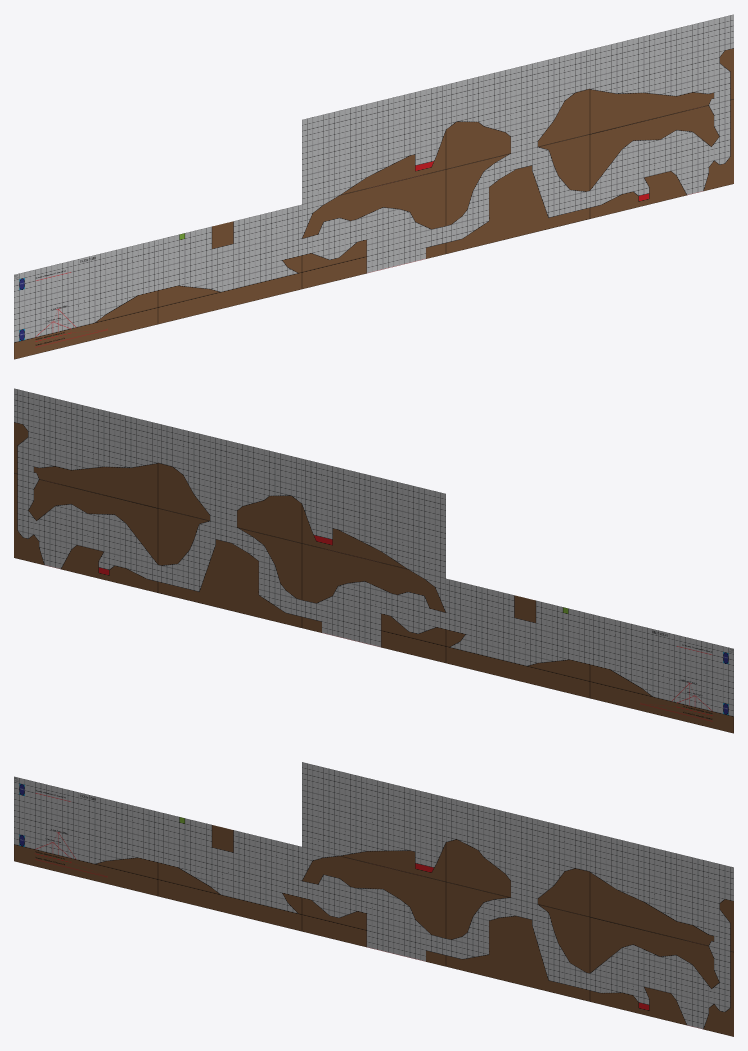
The picture shows the model from 3 angles, top to bottom: view 1: azimuth 30°, elevation 25°; view 2: azimuth 150°, elevation 25°; view 3: azimuth 330°, elevation 25°; orthographic projection.
Visible parts, largest first — view 1: LD-013, LD-015, LD-018, LD-011, LD-016, LD-012, LD-017, LD-014; view 2: LD-013, LD-015, LD-018, LD-011, LD-016, LD-012, LD-017, LD-014; view 3: LD-012, LD-014, LD-017, LD-011, LD-013, LD-016, LD-015, LD-018.
Boxes of the visible parts, left/top/right/bottom form: LD-013: left=302, top=169, right=445, bottom=289; LD-015: left=590, top=99, right=733, bottom=218; LD-018: left=302, top=84, right=445, bottom=204; LD-011: left=14, top=239, right=157, bottom=359; LD-016: left=590, top=14, right=733, bottom=134; LD-012: left=158, top=204, right=301, bottom=324; LD-017: left=446, top=49, right=589, bottom=169; LD-014: left=446, top=134, right=589, bottom=253; LD-013: left=302, top=543, right=445, bottom=663; LD-015: left=14, top=473, right=157, bottom=592; LD-018: left=302, top=458, right=445, bottom=578; LD-011: left=590, top=613, right=733, bottom=733; LD-016: left=14, top=388, right=157, bottom=508; LD-012: left=446, top=578, right=589, bottom=698; LD-017: left=158, top=423, right=301, bottom=543; LD-014: left=158, top=508, right=301, bottom=627; LD-012: left=158, top=811, right=301, bottom=931; LD-014: left=446, top=882, right=589, bottom=1001; LD-017: left=446, top=797, right=589, bottom=916; LD-011: left=14, top=776, right=157, bottom=896; LD-013: left=302, top=847, right=445, bottom=966; LD-016: left=590, top=832, right=733, bottom=951; LD-015: left=590, top=917, right=733, bottom=1036; LD-018: left=302, top=762, right=445, bottom=881.
Bounding box in the file's own units: 9600 × 2160 × 0.000176.
8 materials, 8 textured.
